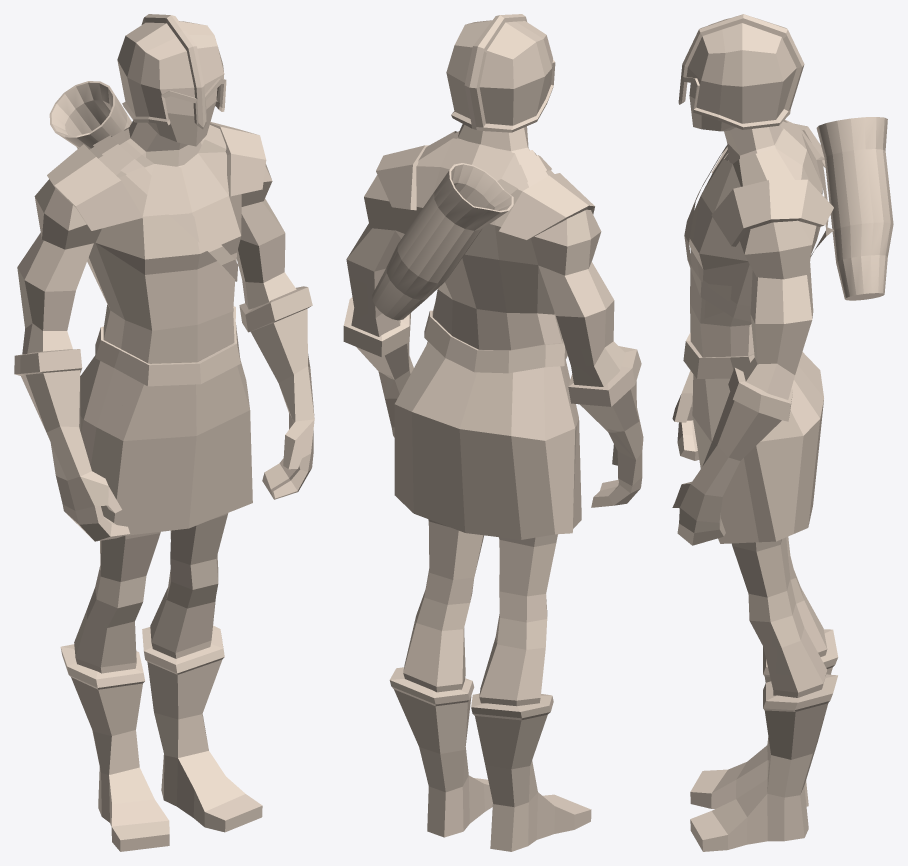
The model's file is arc.fbx.
3 renders of one model, left to right at view 1: azimuth 30°, elevation 25°; view 2: azimuth 150°, elevation 25°; view 3: azimuth 270°, elevation 25°, orthographic.
Visible parts, largest first — view 1: Cube.007, Cube.001; view 2: Cube.007, Cube.001; view 3: Cube.007, Cube.001.
Part boxes in pixels (box(x1,y1,x2,y2)): Cube.007: box(14, 14, 314, 851); Cube.001: box(49, 81, 238, 281); Cube.007: box(343, 14, 643, 851); Cube.001: box(372, 155, 551, 320); Cube.007: box(672, 14, 838, 851); Cube.001: box(684, 117, 893, 321).
Size of the model in its own units: 295 by 792 by 198.
